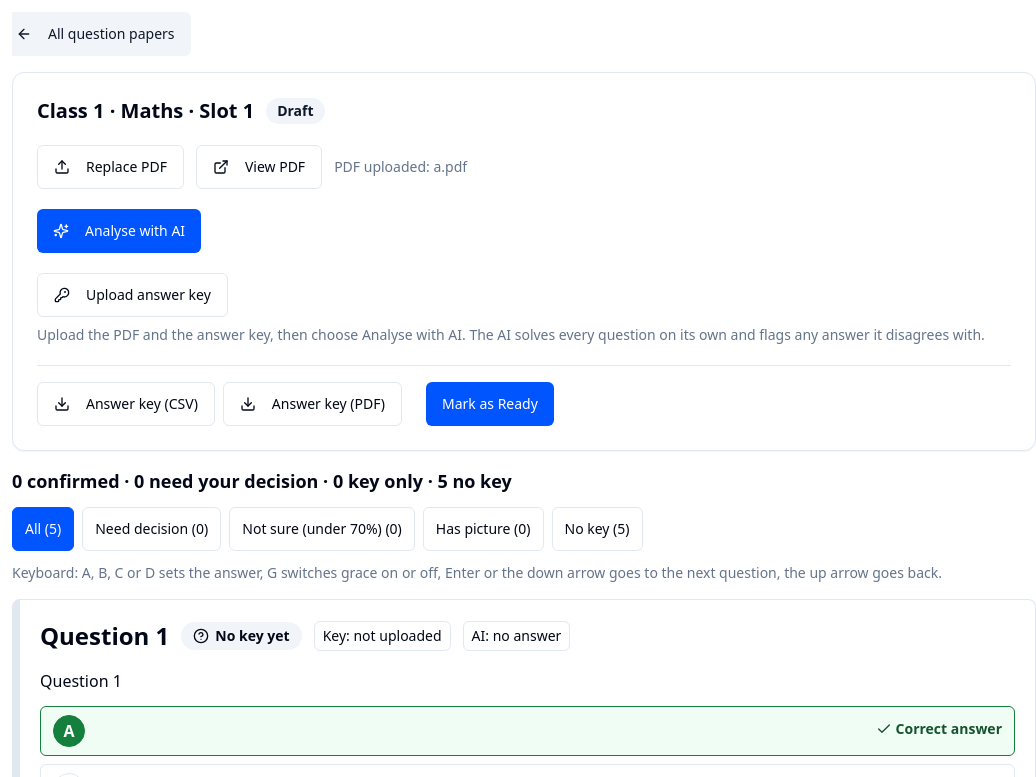
Test case: PaperEditor › explains what is missing when Mark as Ready is blocked
Click the button "Mark as Ready": {"x": 490, "y": 404} [426,382,554,426]
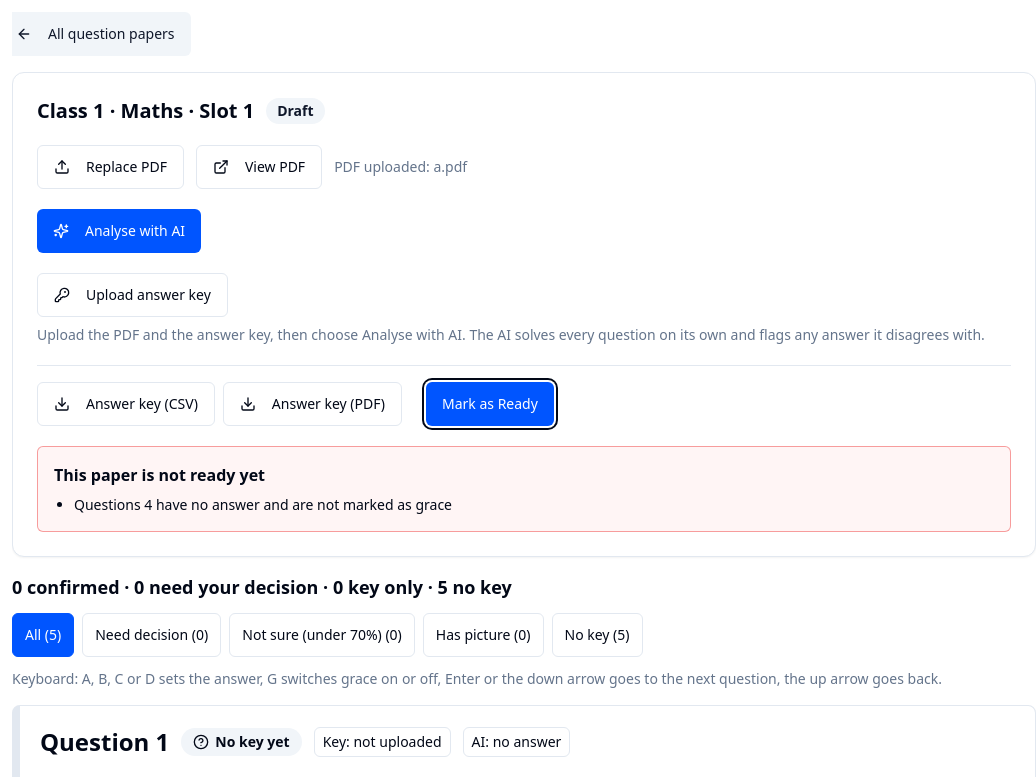
Expected: the list item "Questions 4 have no answer and are not marked as grace" is shown, [74,495,452,514]
